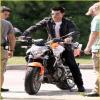motorcycles: (17, 38, 75, 94)
